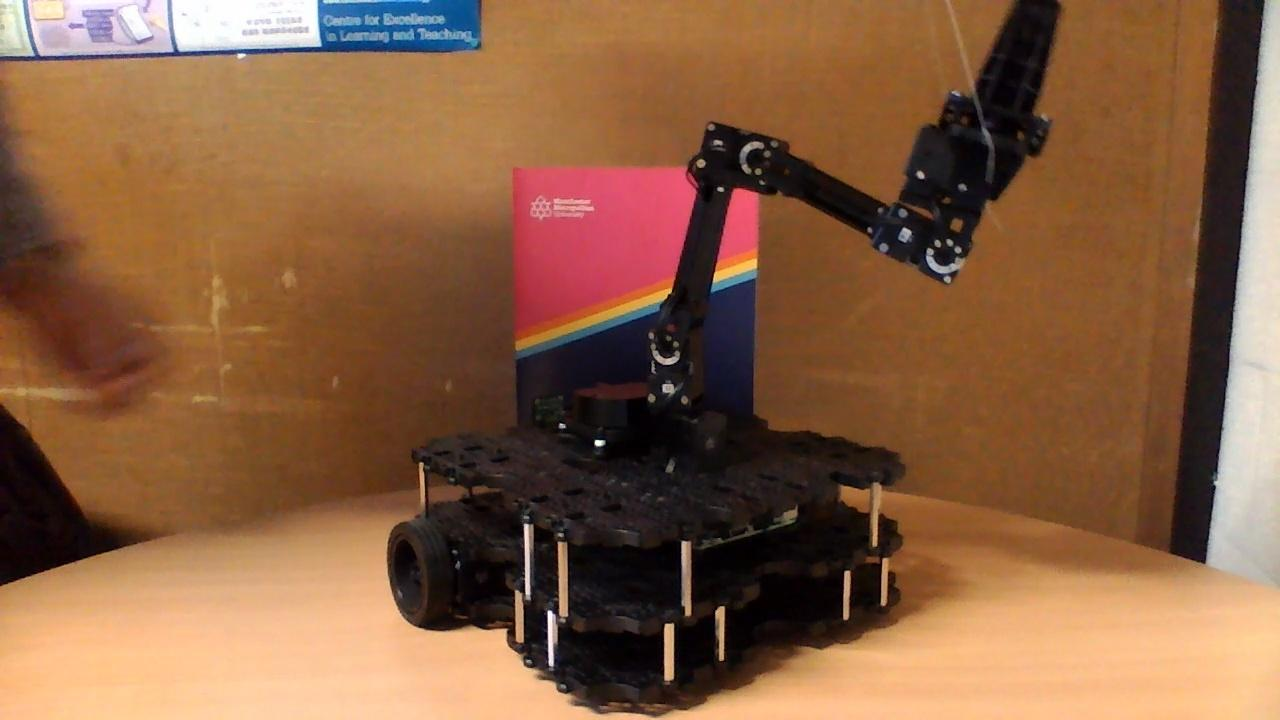Arm: (649, 118, 765, 368)
Hand: (896, 0, 1068, 277)
Wrist: (737, 127, 966, 284)
base: (383, 378, 911, 701)
